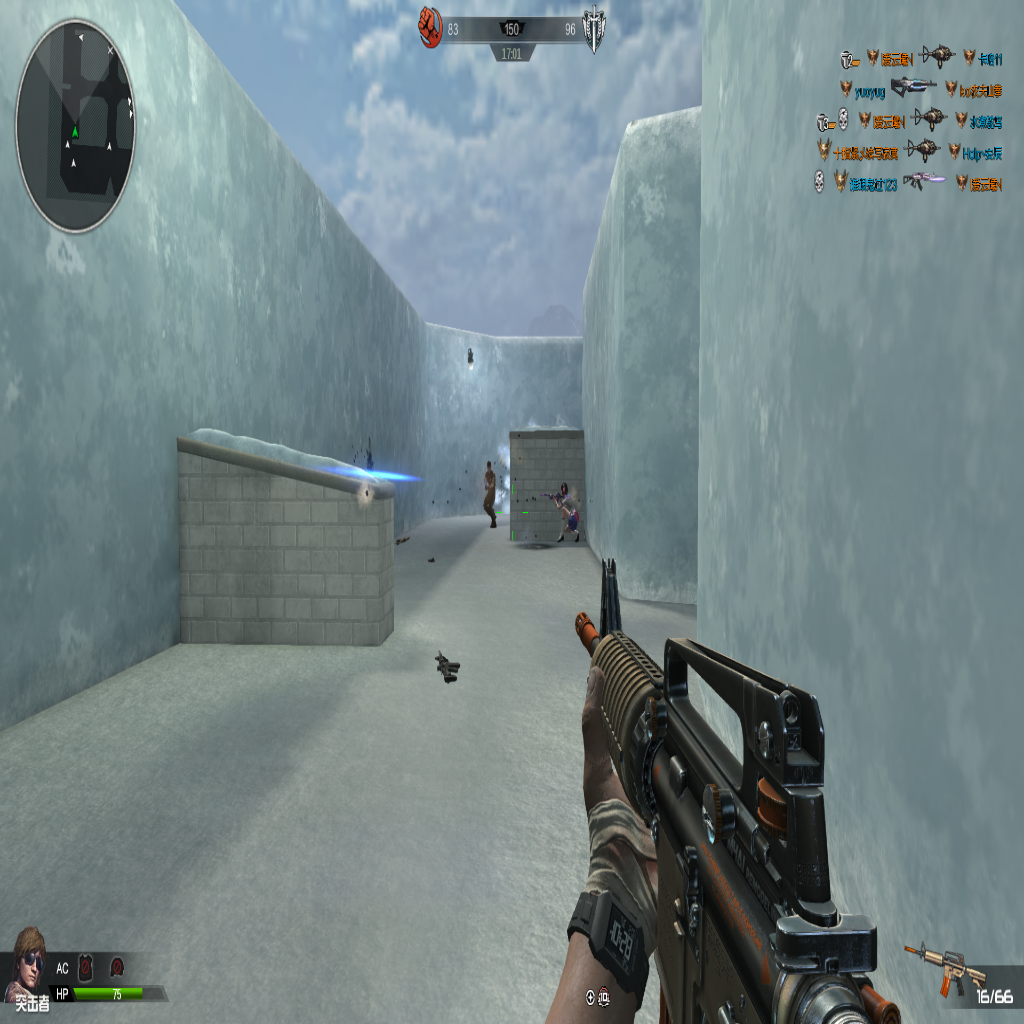ct: (483, 459, 497, 529)
